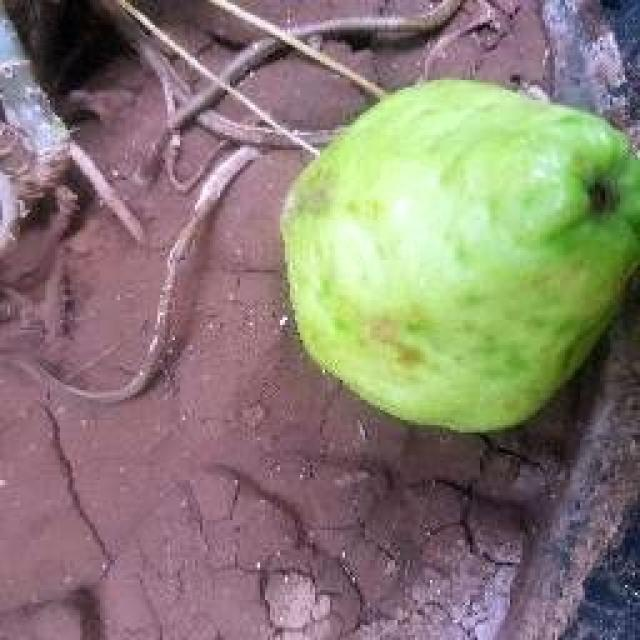Good_Guava: (278, 78, 640, 435)
